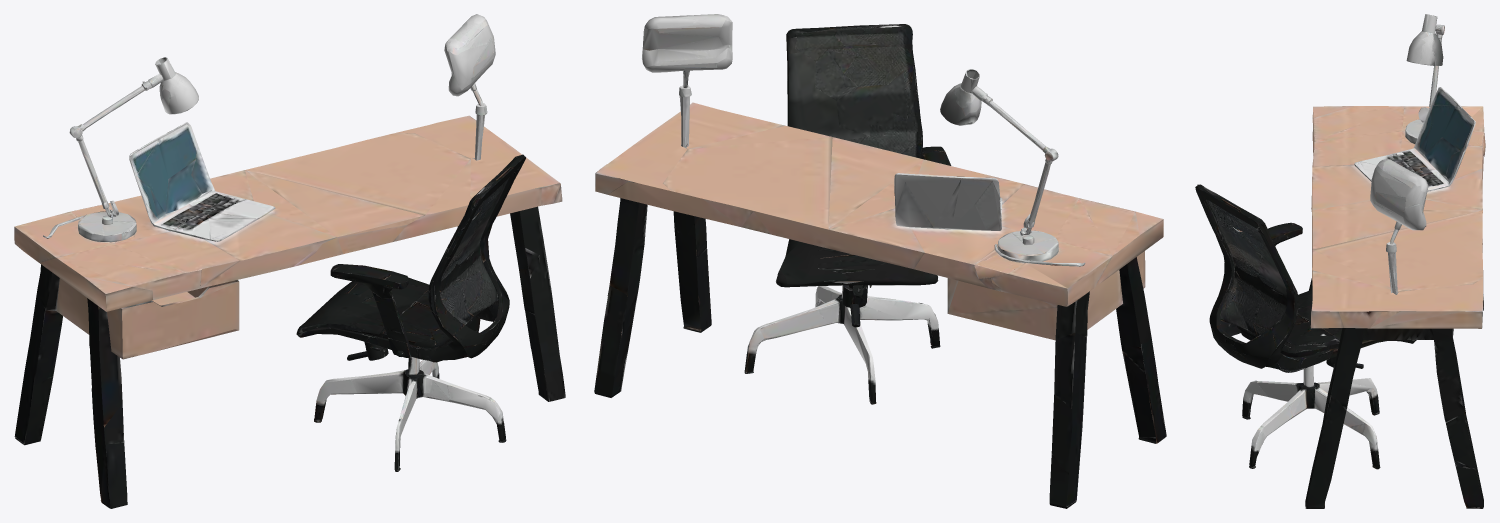
Rendered from work-desk-v1.glb.
3 renders of one model, left to right at view 1: azimuth 30°, elevation 25°; view 2: azimuth 150°, elevation 25°; view 3: azimuth 270°, elevation 25°, orthographic. The views are drawn at different scales.
Size of the model in its own units: 1.4 by 1.09 by 0.8329.
Materials: 1 (1 with a texture image).
